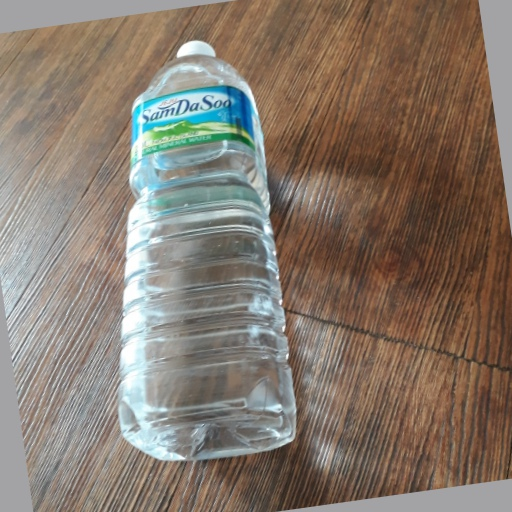Plastic_0: (115, 38, 310, 471)
